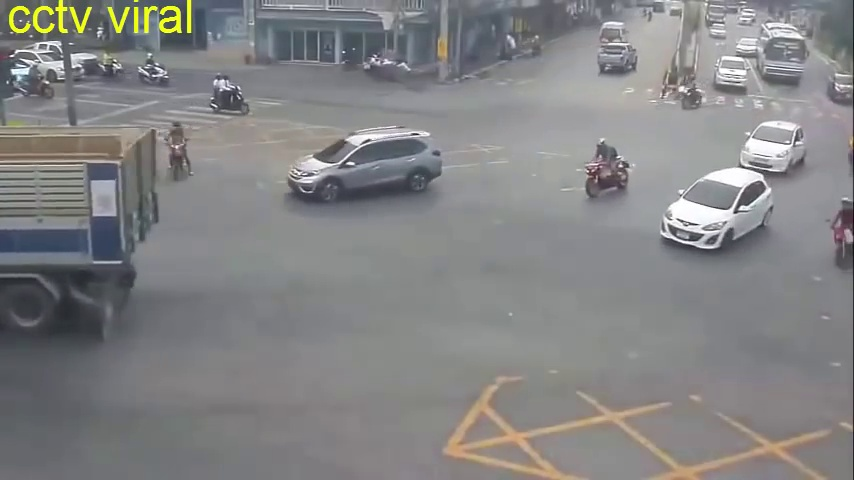car: (289, 127, 445, 198), (661, 168, 773, 252), (742, 120, 805, 177), (759, 20, 804, 85), (14, 49, 80, 90), (600, 41, 640, 73), (714, 56, 747, 92), (829, 73, 852, 102), (737, 38, 760, 59)
motorbike: (586, 140, 632, 198), (827, 194, 852, 267), (213, 71, 250, 116), (166, 118, 192, 179), (16, 64, 55, 100), (137, 53, 169, 86), (678, 71, 702, 108), (96, 51, 123, 82)
